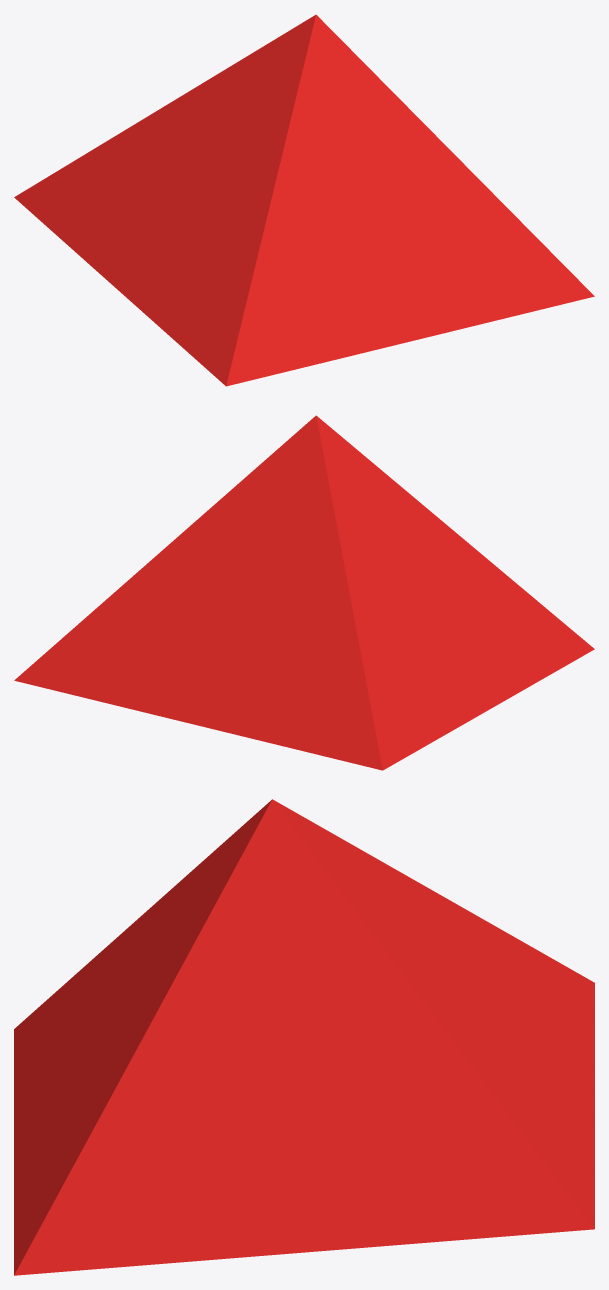
3 views of the same model, one above another, from view 1: azimuth 30°, elevation 25°; view 2: azimuth 150°, elevation 25°; view 3: azimuth 270°, elevation 25° (orthographic). The views are drawn at different scales.
Visible parts, largest first — view 1: root; view 2: root; view 3: root.
Boxes of the visible parts, left/top/right/bottom form: root: left=14, top=14, right=594, bottom=386; root: left=14, top=415, right=594, bottom=770; root: left=14, top=799, right=594, bottom=1275.
Size of the model in its own units: 38.2 by 25.53 by 38.06.
1 material, 1 textured.
